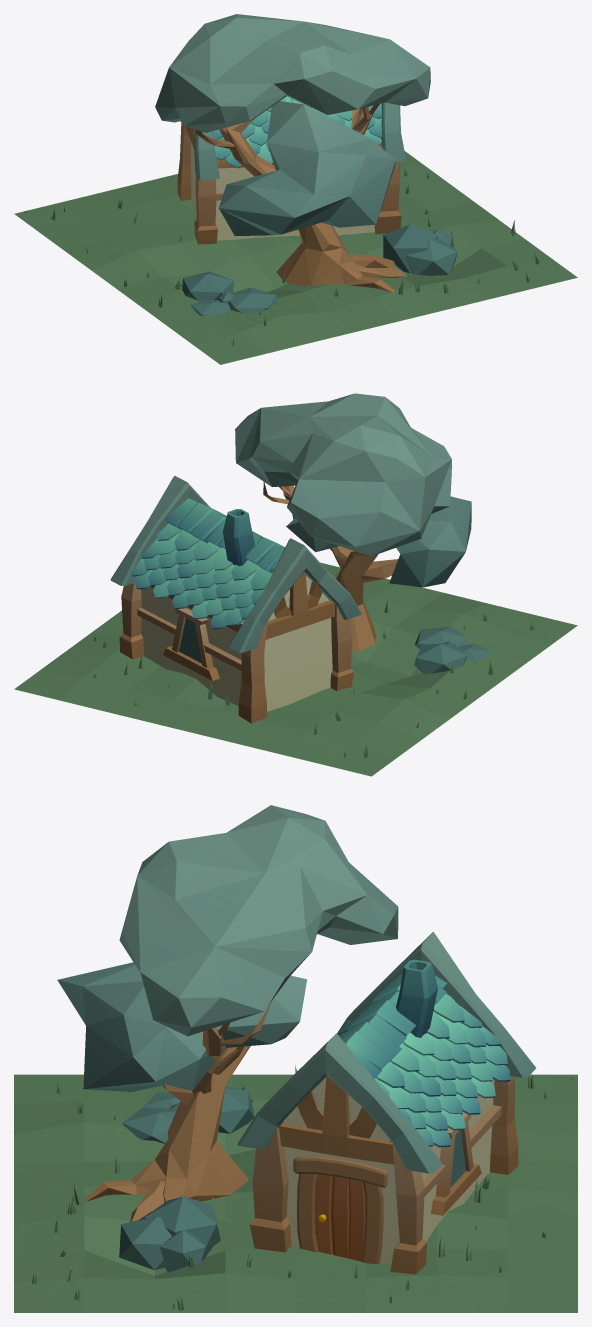
The model's file is House_wet.glb.
3 renders of one model, top to bottom at view 1: azimuth 30°, elevation 25°; view 2: azimuth 150°, elevation 25°; view 3: azimuth 270°, elevation 25°, orthographic. The views are drawn at different scales.
Visible parts, largest first — view 1: Arbol1.069, Plane.002, Icosphere.023, Icosphere.022, Circle.007, Cube.349, Circle.008, Cube.348, Cube.335, Cube.347, Cube.342; view 2: Plane.002, Arbol1.069, Circle.008, Cube.349, Cube.347, Cube.334, Cube.345, Icosphere.022, Cube.348, Cube.346, Cube.342, Cube.343 (+1 smaller); view 3: Plane.002, Arbol1.069, Circle.008, Cube.348, Cube.349, Cube.344, Cube.339, Icosphere.023, Cube.347, Cube.345, Cube.335, Cube.334 (+8 smaller).
Boxes of the visible parts, left/top/right/bottom form: Arbol1.069: left=155, top=14, right=430, bottom=292; Plane.002: left=14, top=151, right=577, bottom=364; Icosphere.023: left=383, top=224, right=457, bottom=275; Icosphere.022: left=182, top=271, right=276, bottom=316; Circle.007: left=214, top=96, right=382, bottom=168; Cube.349: left=191, top=139, right=381, bottom=240; Circle.008: left=194, top=174, right=217, bottom=244; Cube.348: left=381, top=102, right=406, bottom=162; Cube.335: left=374, top=146, right=401, bottom=234; Cube.347: left=180, top=121, right=219, bottom=180; Cube.342: left=177, top=121, right=191, bottom=200; Plane.002: left=14, top=562, right=577, bottom=776; Arbol1.069: left=235, top=393, right=471, bottom=651; Circle.008: left=131, top=523, right=353, bottom=690; Cube.349: left=141, top=576, right=332, bottom=711; Cube.347: left=228, top=538, right=361, bottom=652; Cube.334: left=137, top=608, right=241, bottom=680; Cube.345: left=165, top=498, right=284, bottom=573; Icosphere.022: left=414, top=626, right=491, bottom=673; Cube.348: left=110, top=476, right=210, bottom=585; Cube.346: left=265, top=572, right=334, bottom=639; Cube.342: left=238, top=621, right=267, bottom=723; Cube.343: left=119, top=583, right=144, bottom=659; Plane.002: left=14, top=1074, right=577, bottom=1312; Arbol1.069: left=57, top=805, right=398, bottom=1221; Circle.008: left=374, top=993, right=510, bottom=1147; Cube.348: left=237, top=1033, right=442, bottom=1173; Cube.349: left=282, top=1077, right=494, bottom=1263; Cube.344: left=279, top=1076, right=393, bottom=1164; Cube.339: left=293, top=1156, right=387, bottom=1263; Icosphere.023: left=119, top=1196, right=220, bottom=1269; Cube.347: left=337, top=931, right=535, bottom=1077; Cube.345: left=339, top=974, right=447, bottom=1078; Cube.335: left=249, top=1127, right=291, bottom=1252; Cube.334: left=423, top=1105, right=501, bottom=1215.
Bounding box in the file's own units: 10 × 6.99 × 10.
Materials: 4 (4 with a texture image).
